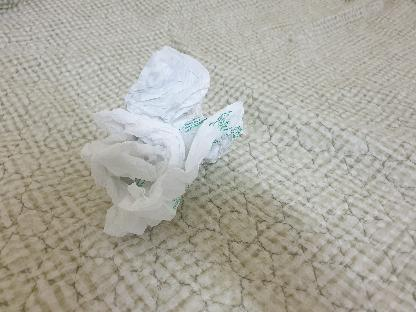Plastic Bag: (80, 42, 244, 242)
